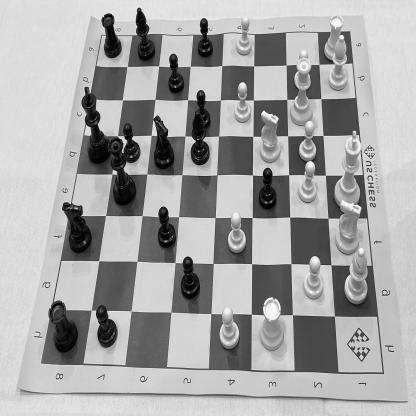black-bishop: (134, 6, 158, 62), (190, 110, 210, 166)
black-king: (80, 84, 110, 166)
black-knight: (61, 200, 94, 254), (152, 113, 174, 171)
black-pawn: (96, 304, 120, 350), (156, 206, 178, 250), (257, 168, 280, 210), (180, 254, 200, 301), (122, 121, 141, 164), (194, 88, 212, 132), (166, 53, 184, 96), (196, 18, 214, 58)
black-queen: (107, 135, 137, 206)
black-rook: (46, 299, 78, 353), (101, 11, 124, 61)
white-bishop: (342, 247, 372, 308), (328, 33, 350, 93)
white-king: (334, 128, 364, 210)
white-knight: (258, 109, 281, 164)
white-pawn: (302, 254, 326, 300), (219, 304, 242, 352), (226, 210, 249, 256), (297, 159, 320, 204), (298, 120, 318, 162), (235, 14, 253, 57), (233, 81, 251, 124), (293, 48, 310, 88)
white-queen: (288, 57, 316, 126)
white-rook: (258, 296, 286, 352), (334, 200, 362, 255), (324, 13, 344, 61)
